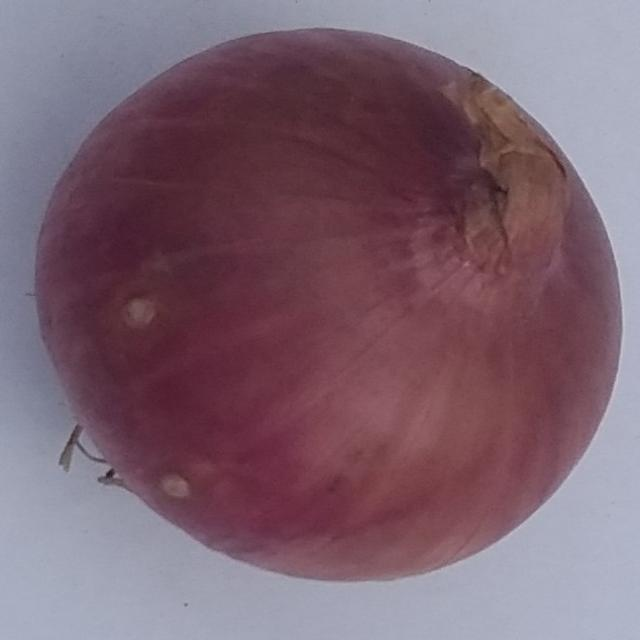onion: (29, 27, 626, 586)
